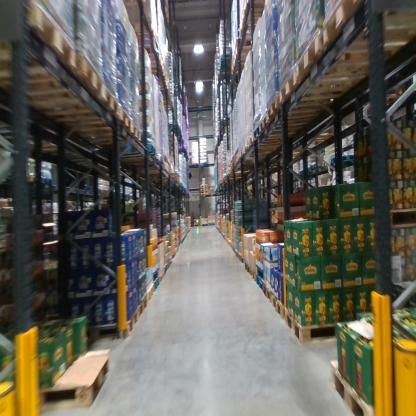pallet: (6, 50, 110, 111), (281, 56, 397, 106), (29, 348, 120, 410), (3, 4, 77, 77), (284, 295, 383, 347), (295, 31, 400, 75), (323, 3, 415, 50), (16, 86, 125, 122), (325, 347, 380, 414), (43, 108, 134, 137), (258, 108, 342, 137), (266, 91, 344, 122), (51, 121, 143, 142), (85, 309, 139, 343), (246, 134, 301, 149), (252, 122, 301, 138), (389, 202, 415, 232), (328, 153, 358, 171), (272, 293, 285, 326), (132, 295, 148, 320), (256, 269, 266, 297), (265, 279, 273, 311), (26, 170, 40, 184), (40, 175, 53, 190), (145, 282, 154, 303), (154, 272, 165, 288), (318, 156, 330, 169), (152, 273, 160, 291), (250, 265, 256, 280), (244, 260, 249, 273)
